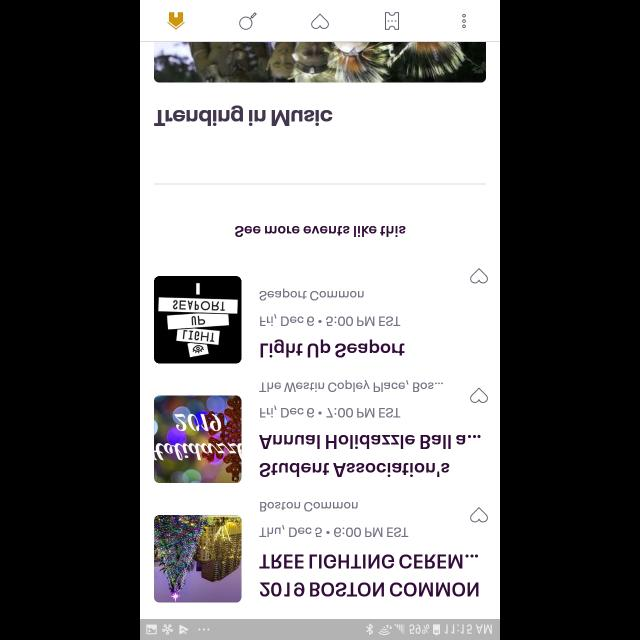icon: (167, 12, 185, 30), (239, 12, 257, 30), (469, 507, 488, 523), (469, 267, 488, 283), (470, 387, 488, 403), (311, 14, 329, 30), (384, 12, 400, 30), (462, 14, 466, 28)
image: (154, 42, 486, 82), (154, 514, 242, 602), (154, 395, 242, 483), (154, 276, 242, 364)
text: (259, 434, 481, 476), (259, 554, 479, 596), (259, 378, 443, 418), (260, 288, 400, 328), (260, 502, 408, 538), (154, 105, 333, 126), (260, 338, 406, 358), (234, 226, 406, 238)
uppertaskbar: (140, 618, 500, 640)
